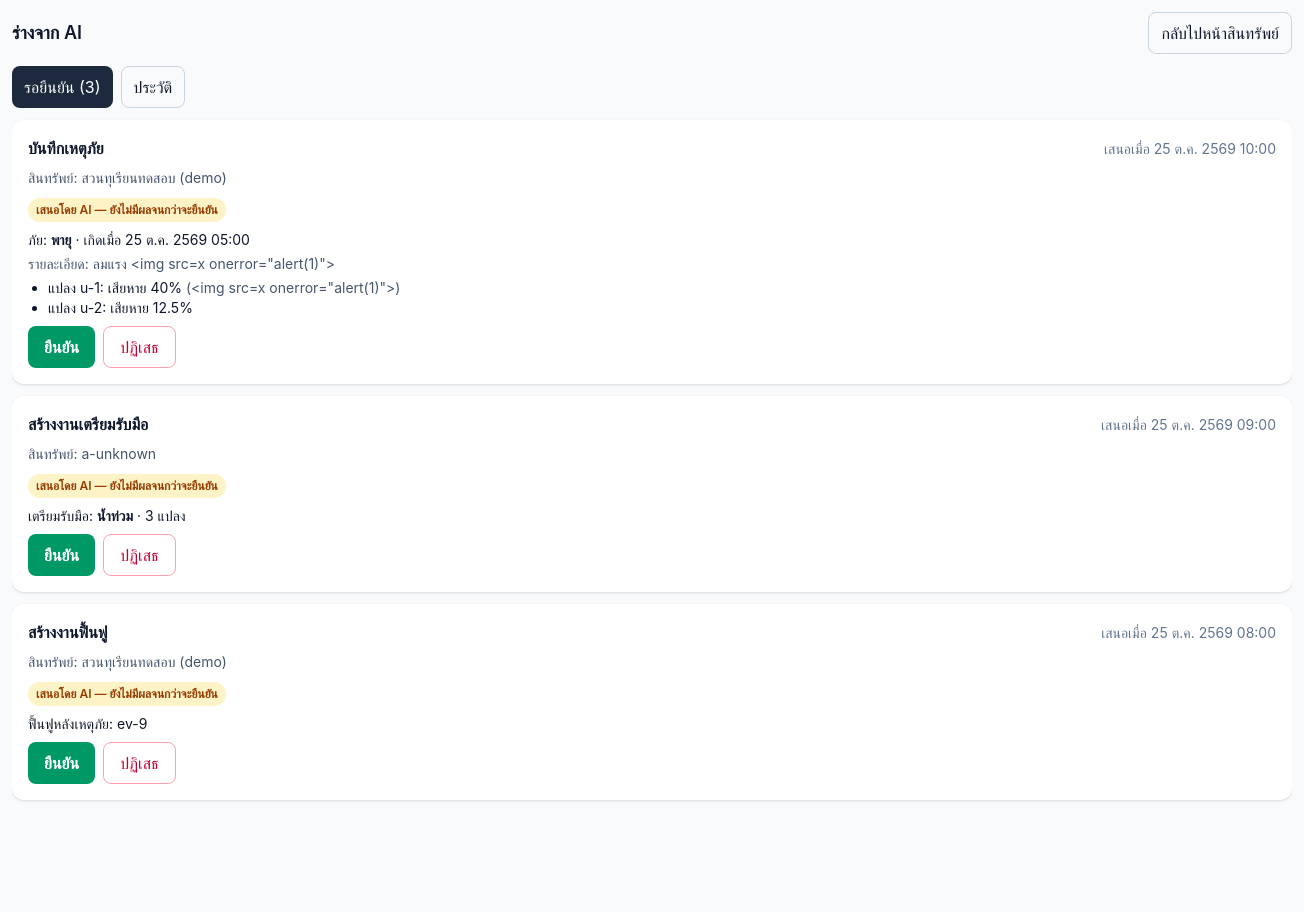
Test: DraftsInbox › confirm posts with the Bearer token, disables the buttons while sending, then removes the draft
Click the button "ยืนยัน" below "บันทึกเหตุภัย" at {"x": 62, "y": 347}, box [28, 326, 95, 368]
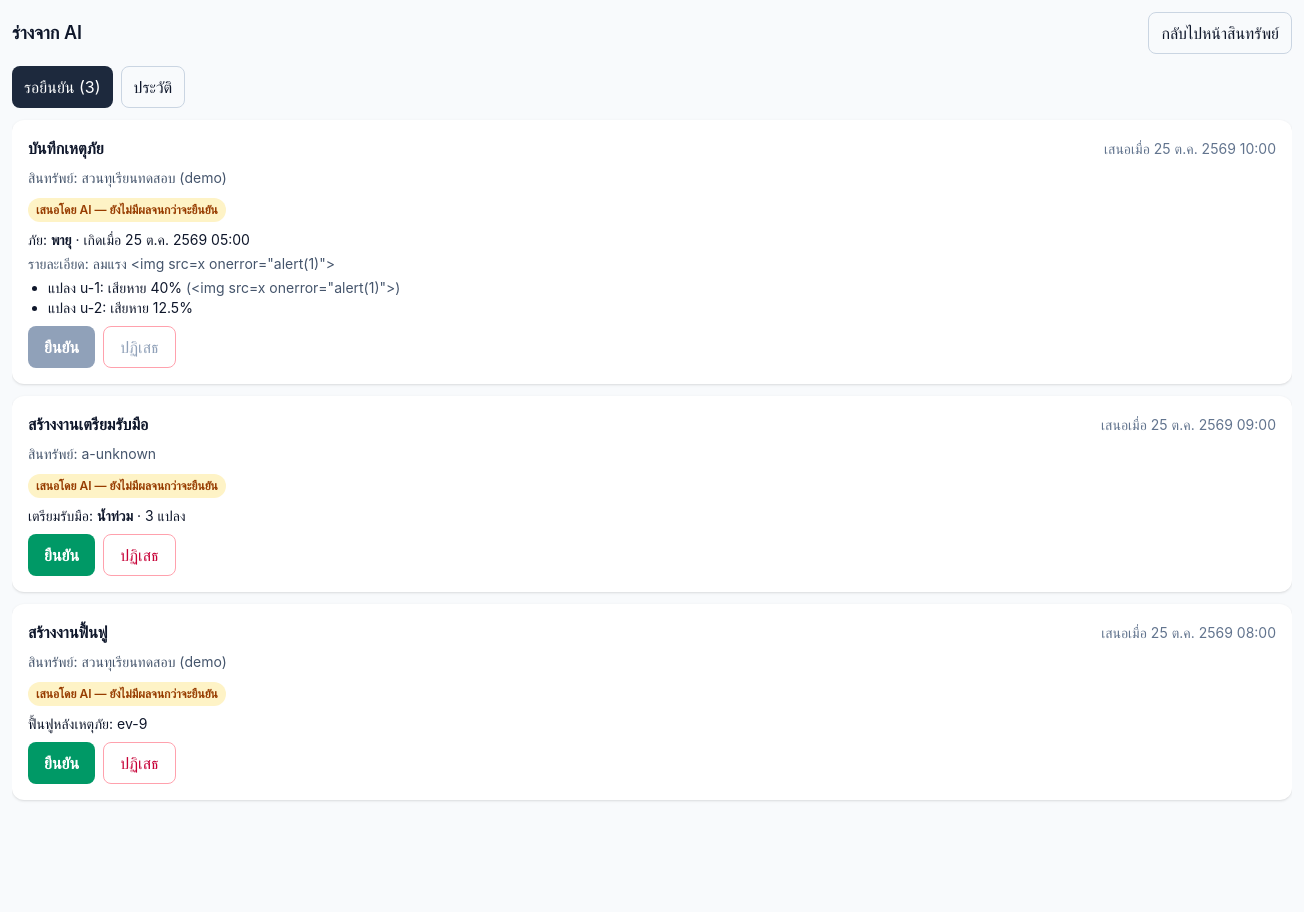
Expected: the button "ยืนยัน" below "บันทึกเหตุภัย" is disabled
Expected: the button "ปฏิเสธ" below "บันทึกเหตุภัย" is disabled, [103, 326, 176, 368]
Click the button "ยืนยัน" below "บันทึกเหตุภัย" at {"x": 62, "y": 347}, box [28, 326, 95, 368]
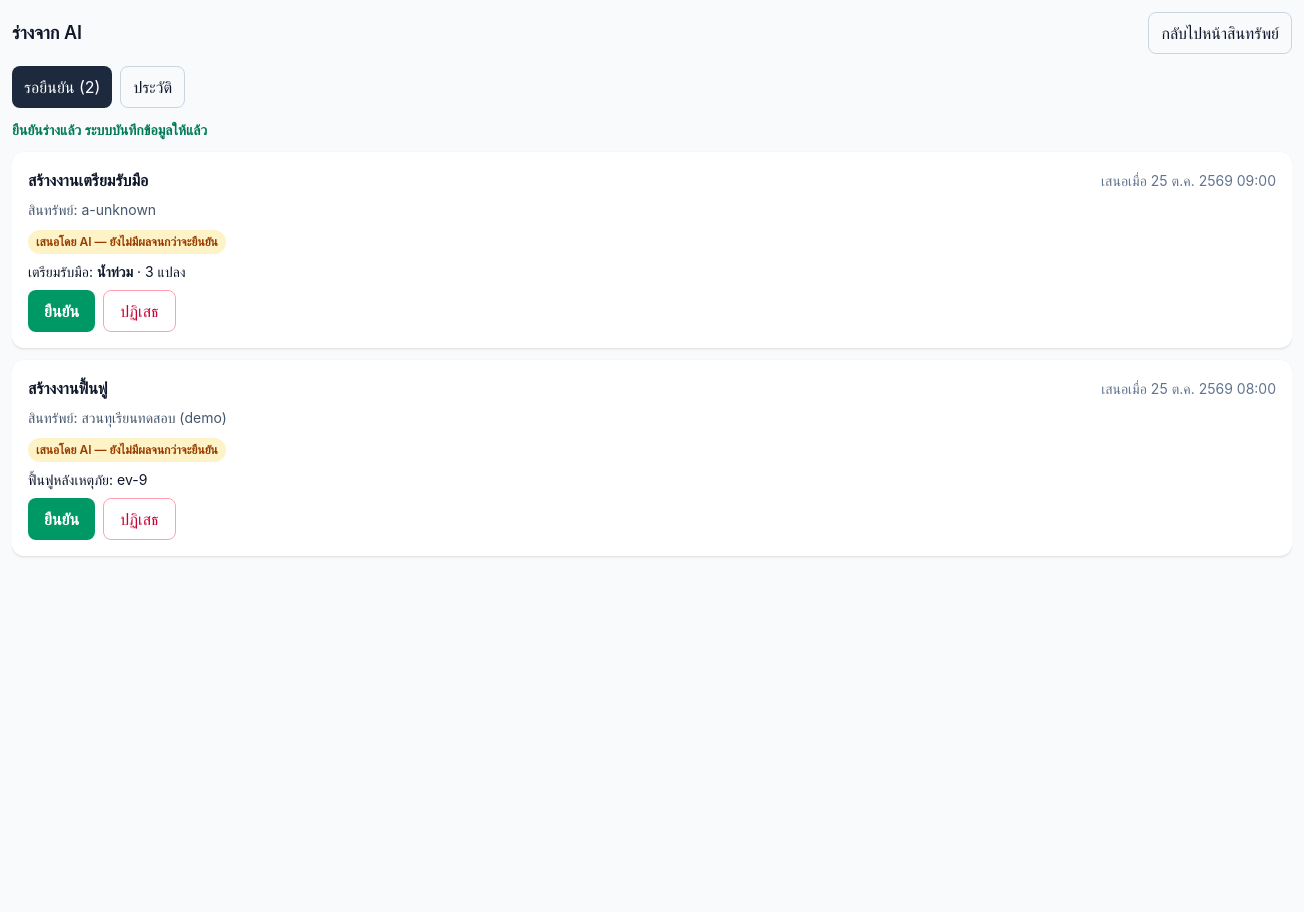
Expected: the text "ยืนยันร่างแล้ว ระบบบันทึกข้อมูลให้แล้ว" is shown, [12, 121, 207, 138]
Expected: the number of list items with test id "draft-card" is 2, [12, 152, 1292, 348]; [12, 360, 1292, 556]
Expected: the heading "บันทึกเหตุภัย" is gone
